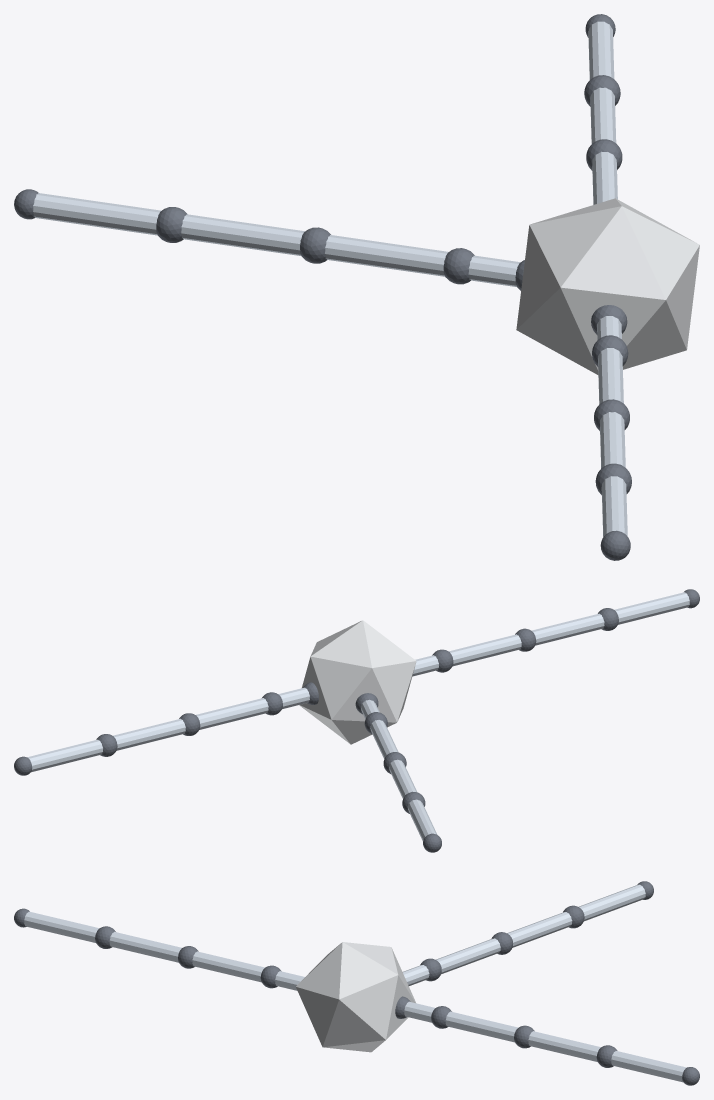
File: g0_444_1_abs.glb
The picture shows the model from 3 angles, top to bottom: view 1: azimuth 30°, elevation 25°; view 2: azimuth 150°, elevation 25°; view 3: azimuth 270°, elevation 25°; orthographic projection. The views are drawn at different scales.
Visible parts, largest first — view 1: geom_0, geom_8, geom_4, geom_6, geom_26, geom_17, geom_15, geom_24, geom_22, geom_2, geom_13, geom_5 (+2 smaller); view 2: geom_0, geom_17, geom_26, geom_24, geom_15, geom_22, geom_13, geom_8, geom_4, geom_6, geom_11; view 3: geom_0, geom_17, geom_26, geom_24, geom_22, geom_13, geom_15, geom_8, geom_4, geom_6, geom_11, geom_2 (+7 smaller).
Boxes of the visible parts, left/top/right/bottom form: geom_0: left=516, top=198, right=699, bottom=374; geom_8: left=33, top=193, right=161, bottom=235; geom_4: left=325, top=235, right=448, bottom=276; geom_6: left=181, top=214, right=304, bottom=255; geom_26: left=601, top=476, right=627, bottom=536; geom_17: left=588, top=21, right=614, bottom=79; geom_15: left=590, top=87, right=616, bottom=143; geom_24: left=600, top=412, right=625, bottom=468; geom_22: left=598, top=348, right=623, bottom=403; geom_2: left=468, top=255, right=520, bottom=286; geom_13: left=592, top=151, right=617, bottom=204; geom_5: left=300, top=227, right=330, bottom=263; geom_0: left=299, top=620, right=416, bottom=744; geom_17: left=27, top=739, right=102, bottom=772; geom_26: left=614, top=592, right=689, bottom=624; geom_24: left=532, top=613, right=604, bottom=645; geom_15: left=113, top=718, right=185, bottom=750; geom_22: left=449, top=634, right=521, bottom=666; geom_13: left=196, top=698, right=268, bottom=729; geom_8: left=407, top=799, right=437, bottom=841; geom_4: left=370, top=720, right=398, bottom=758; geom_6: left=389, top=759, right=416, bottom=798; geom_11: left=278, top=687, right=309, bottom=709; geom_0: left=296, top=942, right=415, bottom=1052; geom_17: left=611, top=1051, right=686, bottom=1082; geom_26: left=24, top=911, right=99, bottom=942; geom_24: left=109, top=931, right=181, bottom=962; geom_22: left=192, top=951, right=264, bottom=982; geom_13: left=445, top=1011, right=517, bottom=1042; geom_15: left=528, top=1031, right=600, bottom=1061; geom_8: left=578, top=884, right=645, bottom=921; geom_4: left=436, top=938, right=500, bottom=974; geom_6: left=507, top=912, right=572, bottom=947; geom_11: left=404, top=1001, right=435, bottom=1022; geom_2: left=402, top=965, right=429, bottom=985.
Size of the model in its own units: 0.5792 by 0.1559 by 0.8673.
